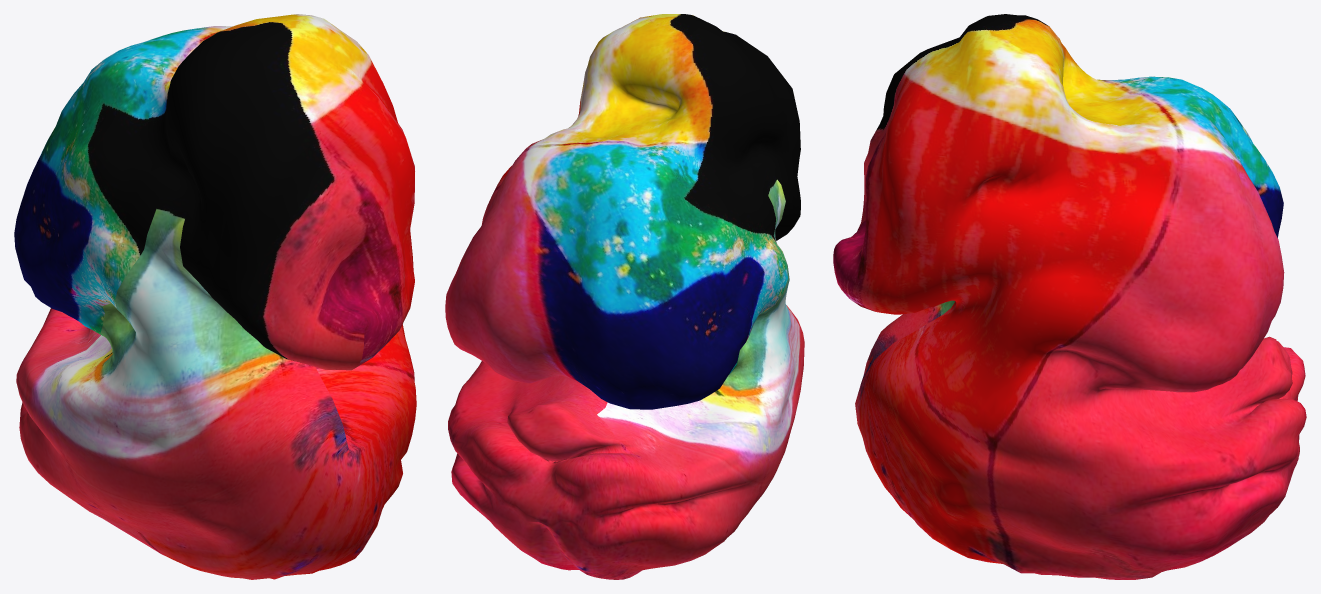
File: EXAMPLE.5.11.glb
3 renders of one model, left to right at view 1: azimuth 30°, elevation 25°; view 2: azimuth 150°, elevation 25°; view 3: azimuth 270°, elevation 25°, orthographic. The views are drawn at different scales.
Visible parts, largest first — view 1: Group1668; view 2: Group1668; view 3: Group1668.
Boxes of the visible parts, x1,y1,x2,y2 form: Group1668: (14,14,416,579); Group1668: (445,14,804,579); Group1668: (833,14,1306,579).
Bounding box in the file's own units: 1.36 × 2.27 × 1.8.
Materials: 1 (1 with a texture image).
